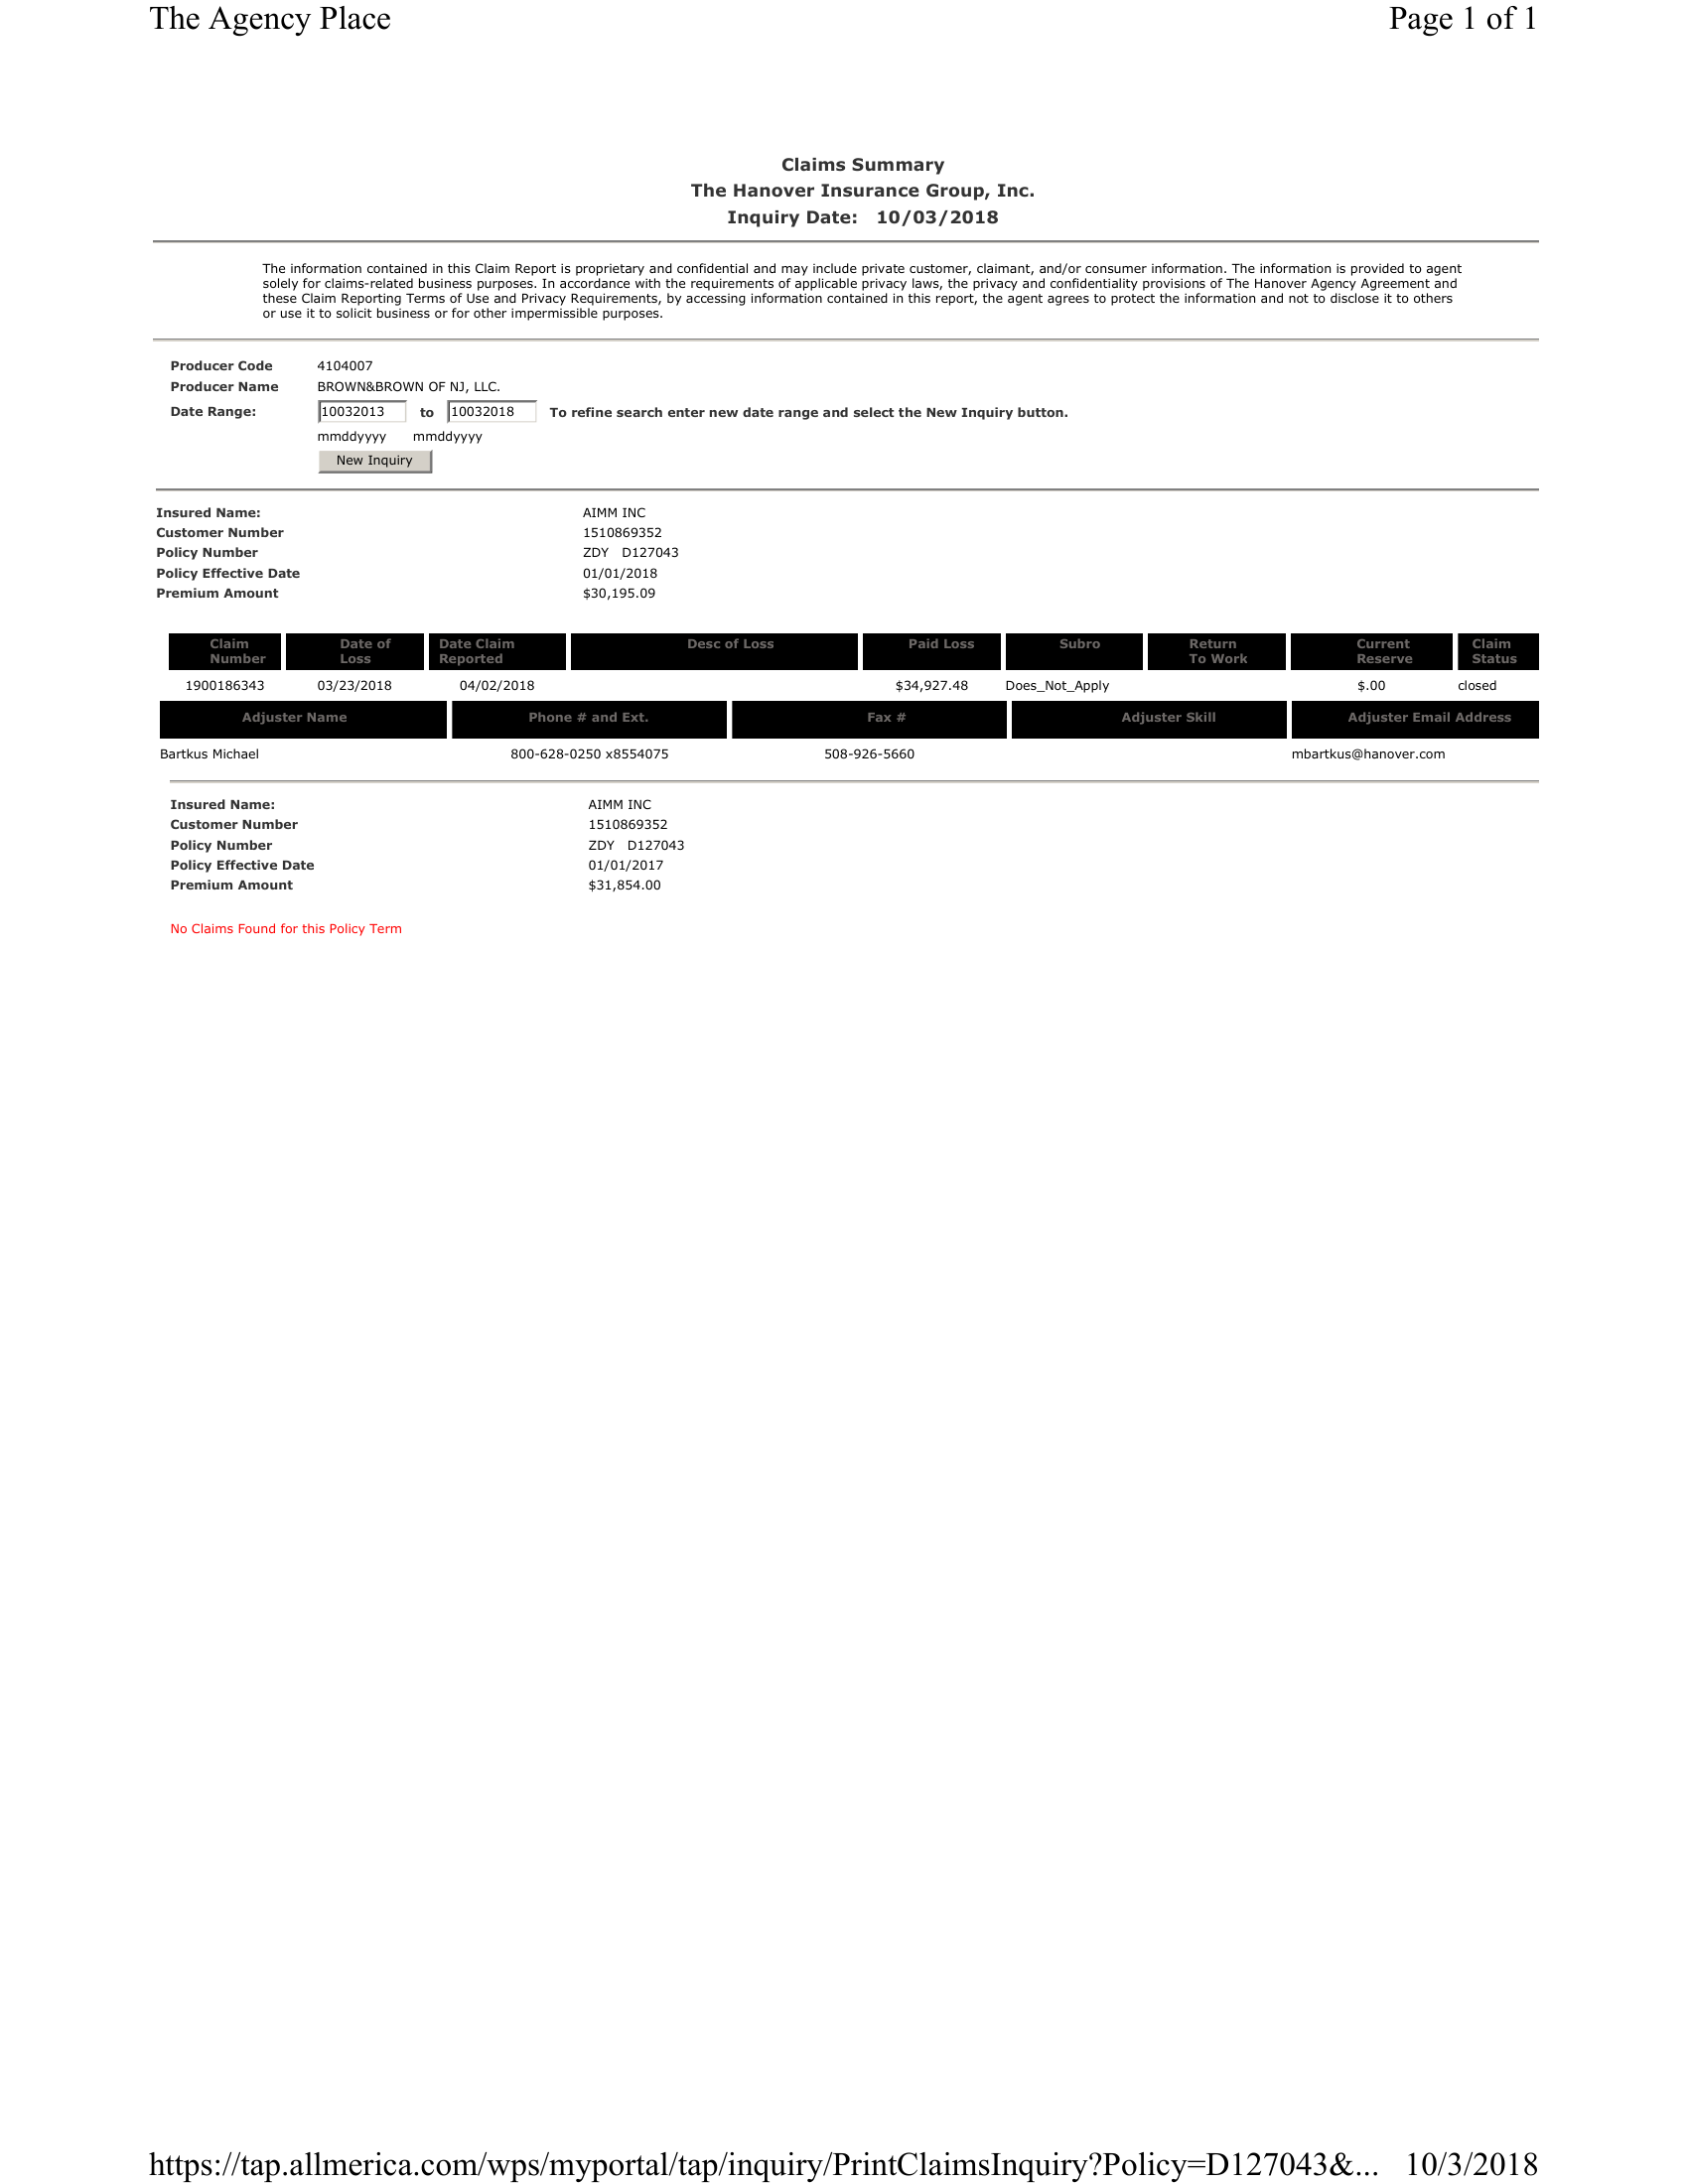others: (131, 333, 1628, 971)
